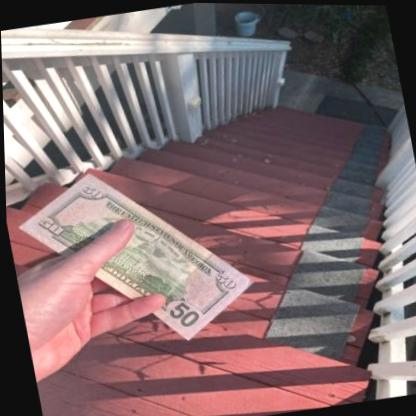fifty-back: (16, 173, 253, 339)
